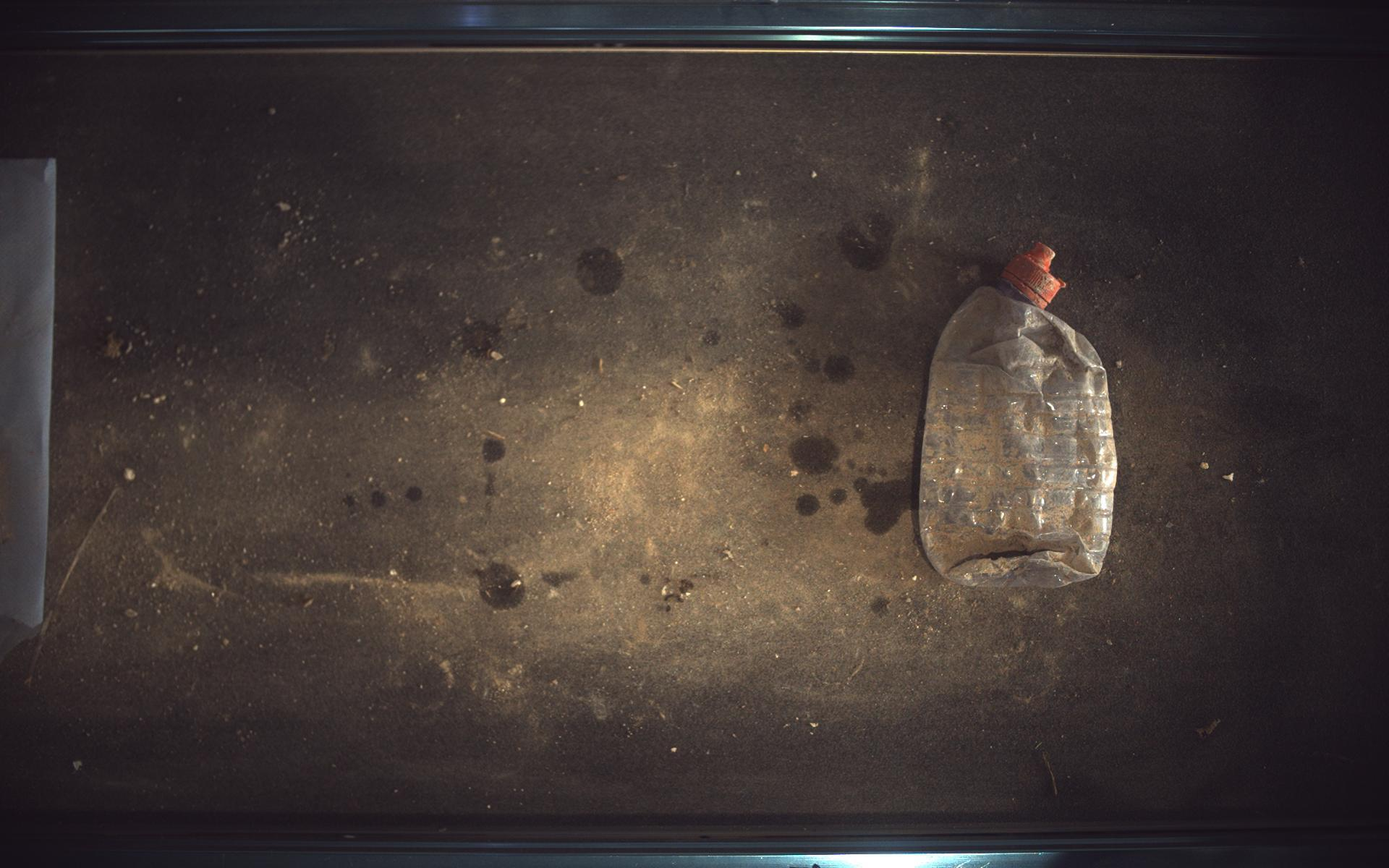general_w: (921, 242, 1120, 588)
